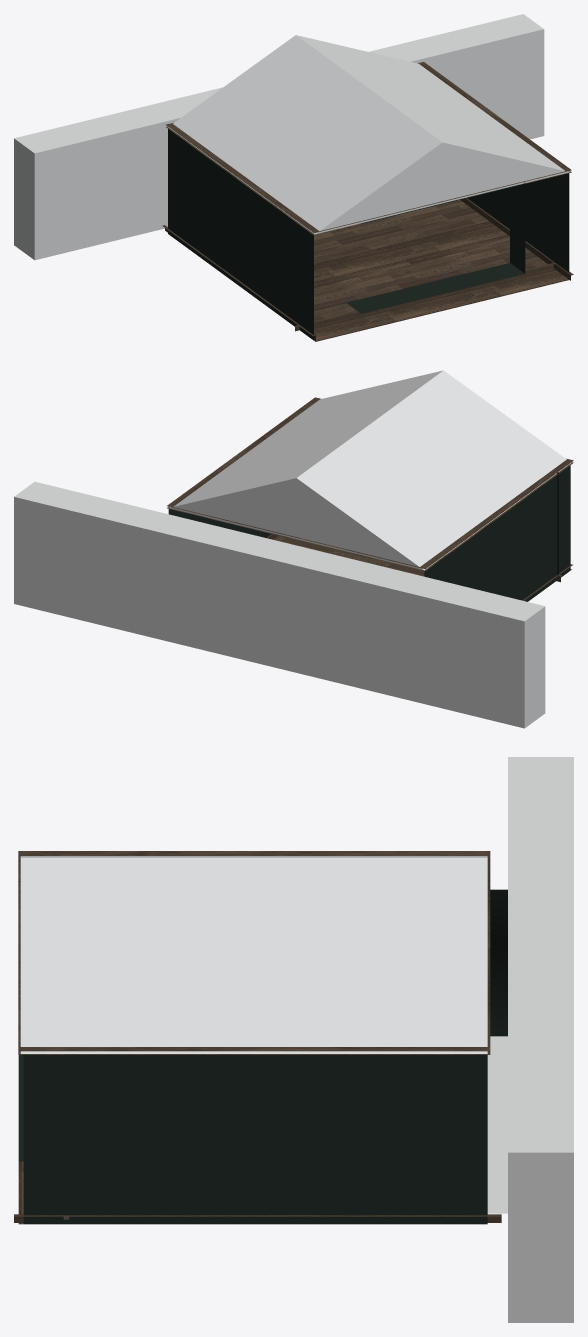
The model's file is M_Dogroomframework02.FBX.
3 renders of one model, top to bottom at view 1: azimuth 30°, elevation 25°; view 2: azimuth 150°, elevation 25°; view 3: azimuth 270°, elevation 25°, orthographic. The views are drawn at different scales.
Parts seen in each view (by area): view 1: M_kennel01_roof02, M_kennel01_corridor02, M_kennel01_wall02, M_kennel01_floor02, M_kennel01_qiangjiaoxian01, Object001; view 2: M_kennel01_corridor02, M_kennel01_roof02, M_kennel01_wall02, M_kennel01_qiangjiaoxian01, M_kennel01_floor02; view 3: M_kennel01_roof02, M_kennel01_wall02, M_kennel01_corridor02, M_kennel01_qiangjiaoxian01, Object001.
Boxes of the visible parts, x1,y1,x2,y2 form: M_kennel01_roof02: (168,35,569,234); M_kennel01_corridor02: (14,14,544,260); M_kennel01_wall02: (168,129,569,340); M_kennel01_floor02: (314,200,568,341); M_kennel01_qiangjiaoxian01: (162,62,573,340); Object001: (346,182,525,313); M_kennel01_corridor02: (14,481,545,728); M_kennel01_roof02: (169,370,571,570); M_kennel01_wall02: (168,465,570,601); M_kennel01_qiangjiaoxian01: (167,397,573,600); M_kennel01_floor02: (273,536,571,576); M_kennel01_roof02: (20,856,487,1053); M_kennel01_wall02: (23,1055,487,1224); M_kennel01_corridor02: (487,757,573,1322); M_kennel01_qiangjiaoxian01: (14,851,501,1222); Object001: (18,889,507,1161).
Size of the model in its own units: 19.95 by 6.28 by 11.93.
